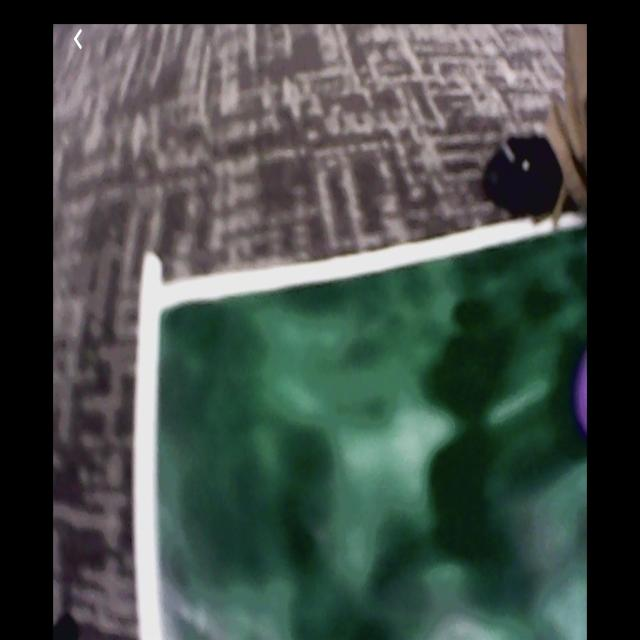ball: (577, 356, 588, 437)
